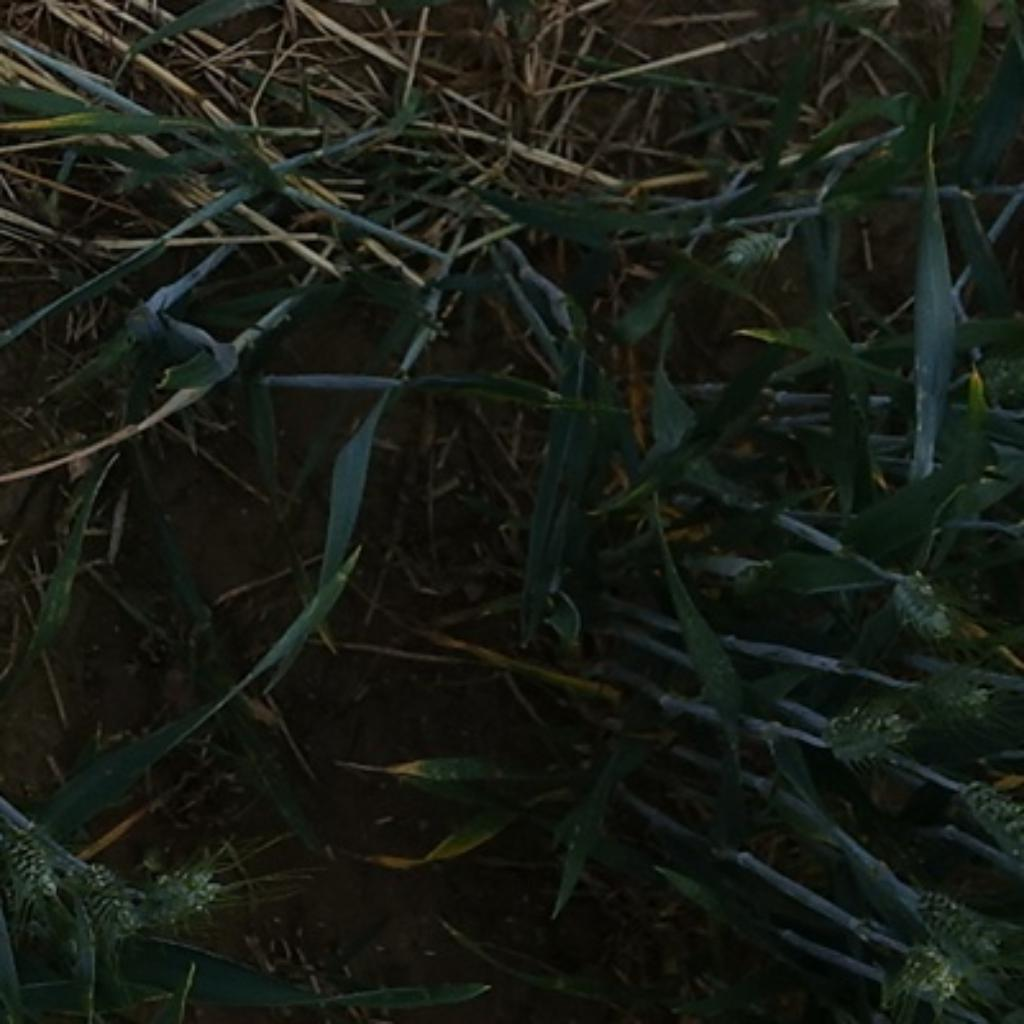0-0: (916, 885, 1016, 972), (819, 686, 921, 768), (872, 936, 975, 1008), (880, 575, 969, 654), (143, 856, 224, 937), (0, 816, 74, 903), (953, 772, 1024, 855), (76, 852, 140, 944), (921, 674, 1011, 720), (716, 220, 793, 271)
